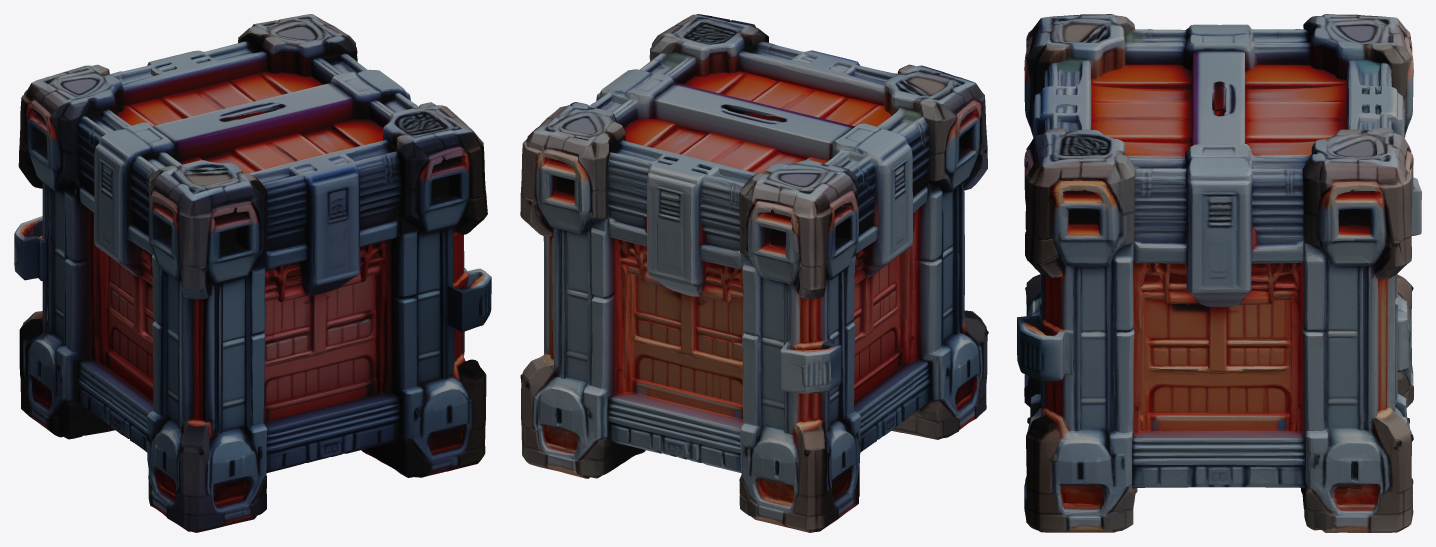
File: cb088356-1d69-41a5-b46d-4bc22aafa1b7.glb
The picture shows the model from 3 angles, left to right: view 1: azimuth 30°, elevation 25°; view 2: azimuth 150°, elevation 25°; view 3: azimuth 270°, elevation 25°; orthographic projection. The views are drawn at different scales.
Parts seen in each view (by area): view 1: world; view 2: world; view 3: world.
Part boxes in pixels (x1,y1,x2,y2): world: (14,14,491,532); world: (520,14,988,532); world: (1017,14,1421,532).
Size of the model in its own units: 0.981 by 0.9986 by 0.9899.
Materials: 1 (1 with a texture image).
